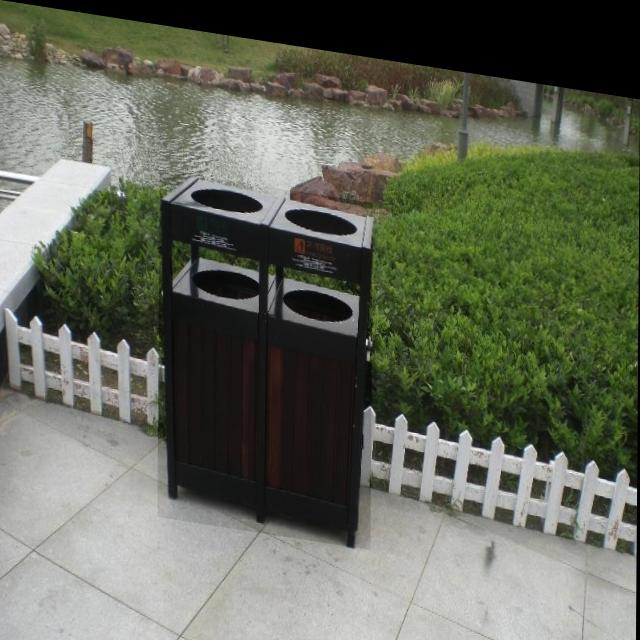garbage_bin: (158, 165, 373, 538)
